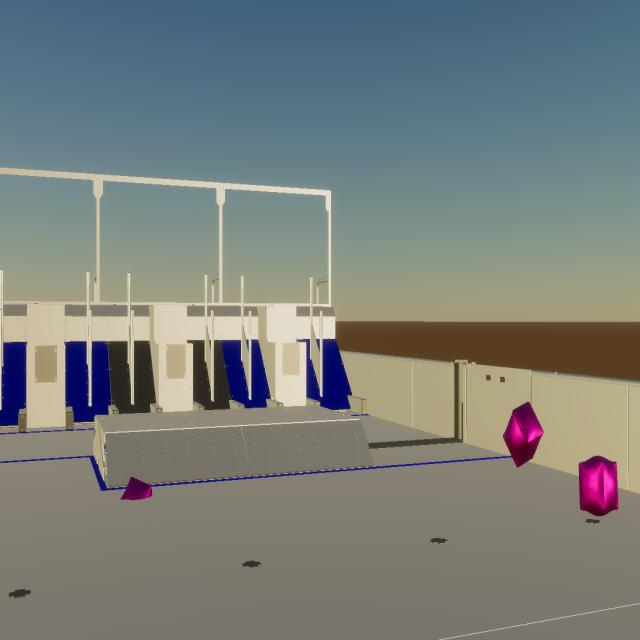frc_cube: (503, 402, 544, 468), (579, 456, 618, 516), (120, 477, 152, 500), (104, 451, 106, 454)
